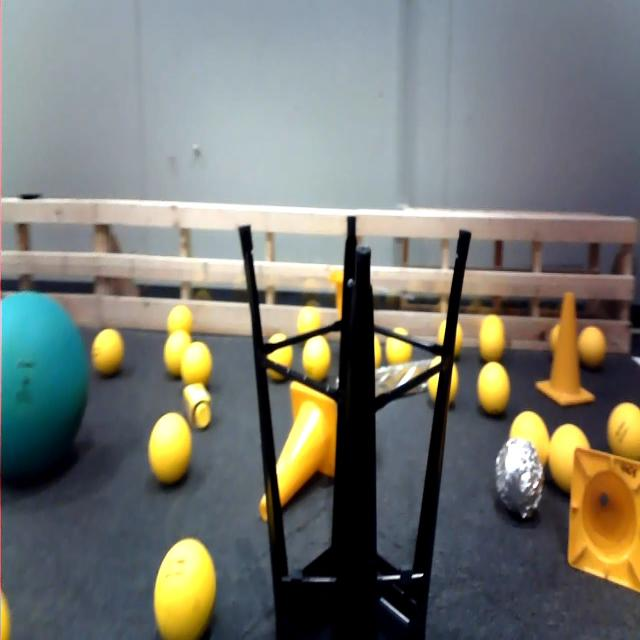fuel: (149, 538, 224, 630), (144, 406, 198, 486), (546, 416, 588, 486), (473, 347, 511, 420), (602, 394, 640, 467), (256, 324, 295, 389), (89, 320, 128, 382), (576, 319, 611, 376), (511, 413, 549, 464), (427, 352, 461, 404), (300, 333, 332, 385), (474, 316, 512, 358), (163, 324, 194, 374), (182, 339, 216, 383), (386, 325, 418, 371), (438, 315, 464, 358), (166, 298, 196, 334), (2, 570, 16, 640), (546, 320, 563, 365), (366, 328, 384, 362)
